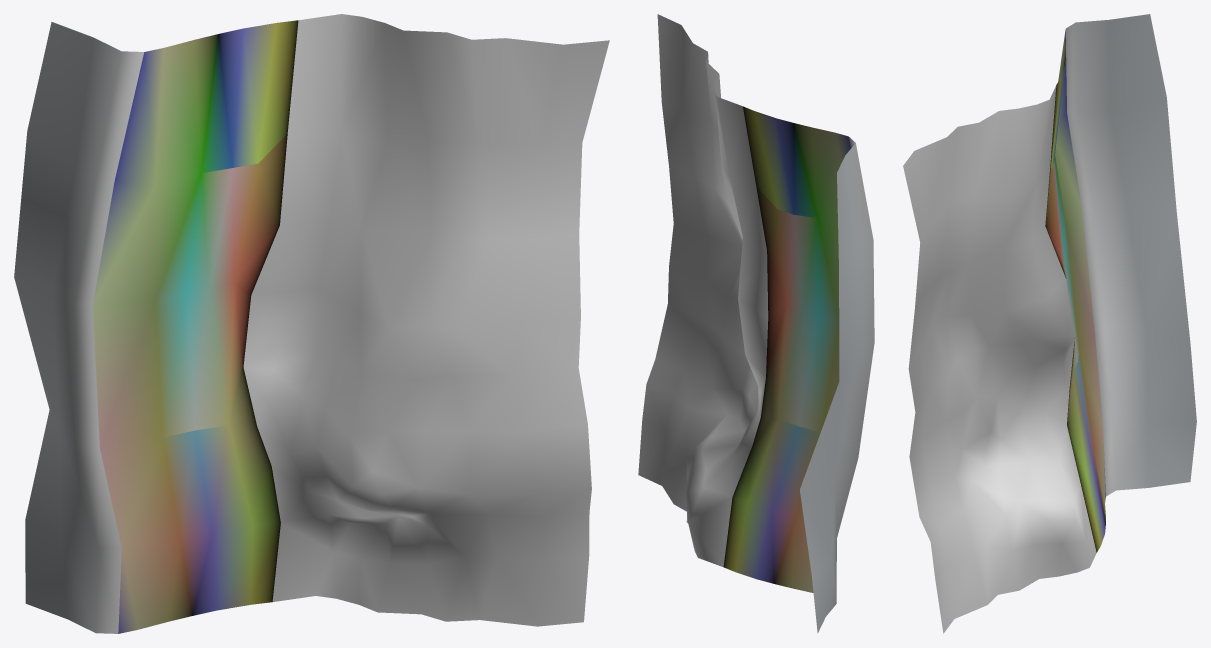
The model's file is Volcano_RampStraightA_lod2.glb.
3 views of the same model, side by side, from view 1: azimuth 30°, elevation 25°; view 2: azimuth 150°, elevation 25°; view 3: azimuth 270°, elevation 25° (orthographic). The views are drawn at different scales.
Parts seen in each view (by area): view 1: MeshNode_0, MeshNode_1; view 2: MeshNode_0, MeshNode_1; view 3: MeshNode_0, MeshNode_1.
Boxes of the visible parts, left/top/right/bottom form: MeshNode_0: left=14, top=14, right=609, bottom=633; MeshNode_1: left=92, top=20, right=298, bottom=633; MeshNode_0: left=638, top=14, right=874, bottom=633; MeshNode_1: left=723, top=106, right=850, bottom=592; MeshNode_0: left=903, top=14, right=1196, bottom=633; MeshNode_1: left=1045, top=30, right=1105, bottom=552.
Size of the model in its own units: 93.65 by 128 by 72.84.
